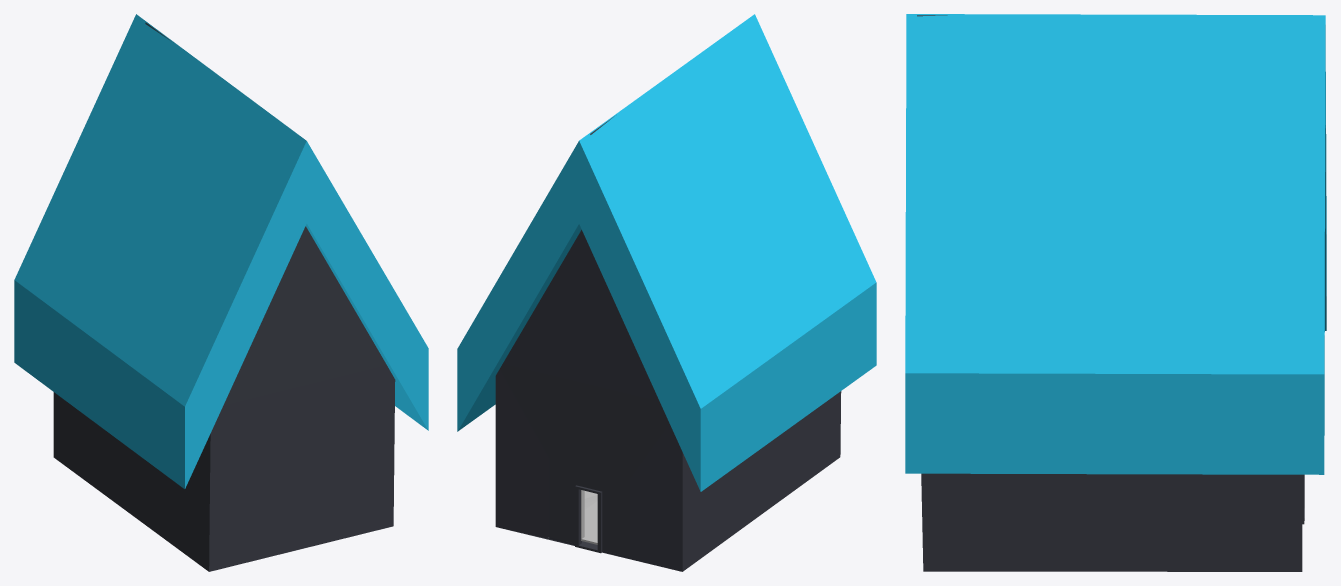
File: Map3Fixes 1.fbx
3 views of the same model, side by side, from view 1: azimuth 30°, elevation 25°; view 2: azimuth 150°, elevation 25°; view 3: azimuth 270°, elevation 25° (orthographic). The views are drawn at different scales.
Parts seen in each view (by area): view 1: Roof.007, HouseBoss; view 2: Roof.007, HouseBoss, HouseBoss.001; view 3: Roof.007, HouseBoss.
Boxes of the visible parts, box(x1,y1,x2,y2) form: Roof.007: box(14, 14, 428, 488); HouseBoss: box(53, 22, 395, 571); Roof.007: box(457, 14, 876, 491); HouseBoss: box(495, 116, 841, 571); HouseBoss.001: box(581, 490, 597, 544); Roof.007: box(905, 14, 1326, 474); HouseBoss: box(917, 15, 1304, 571).
Size of the model in its own units: 17.84 by 28.8 by 21.91.
